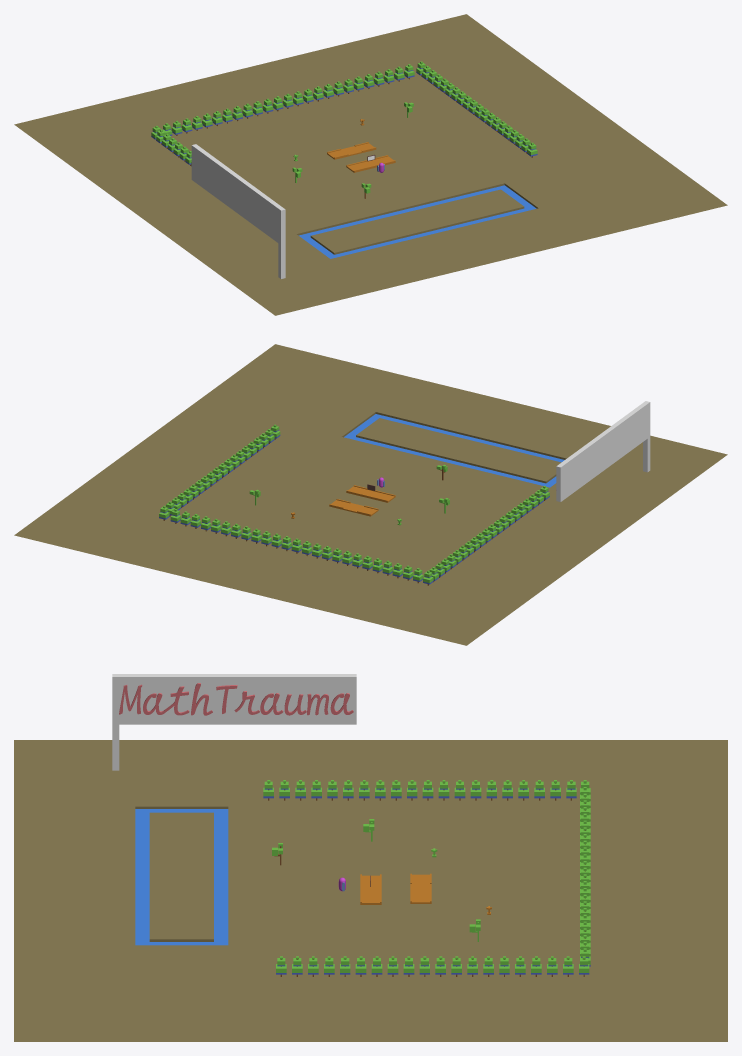
Rendered from mess2.glb.
3 views of the same model, one above another, from view 1: azimuth 30°, elevation 25°; view 2: azimuth 150°, elevation 25°; view 3: azimuth 270°, elevation 25° (orthographic). The views are drawn at different scales.
Visible parts, largest first — view 1: Plane, sign; view 2: Plane, sign; view 3: Plane, sign, Text.
Part boxes in pixels (x1,y1,x2,y2): Plane: (14,14,727,315); sign: (191,144,285,278); Plane: (14,344,727,645); sign: (556,401,650,501); Plane: (14,740,727,1041); sign: (112,674,356,770); Text: (119,683,353,715).
Bounding box in the file's own units: 200 × 29.8 × 200.
11 materials, 1 textured.
